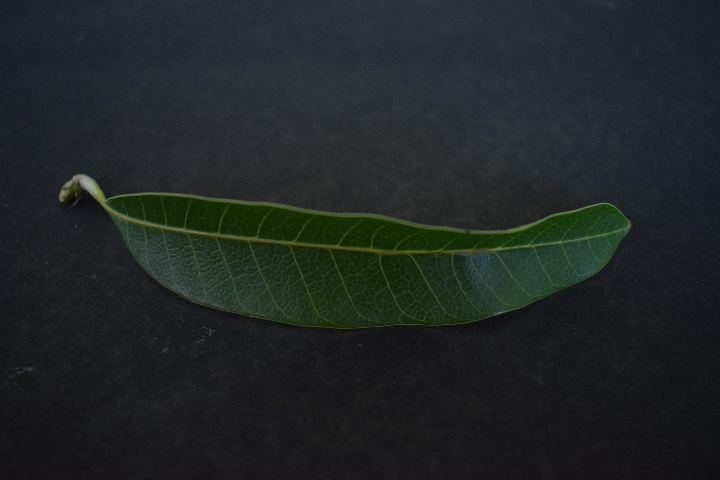healthy: (100, 175, 623, 344)
